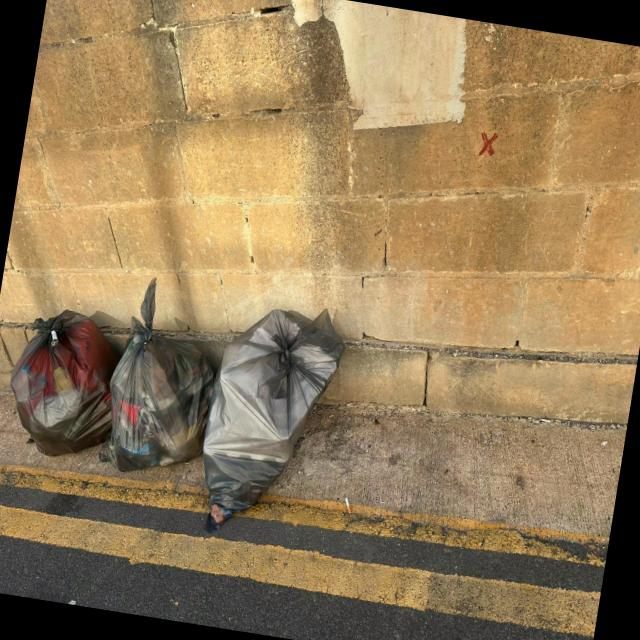black_bag: (193, 294, 350, 542), (96, 286, 228, 490), (0, 297, 130, 467)
